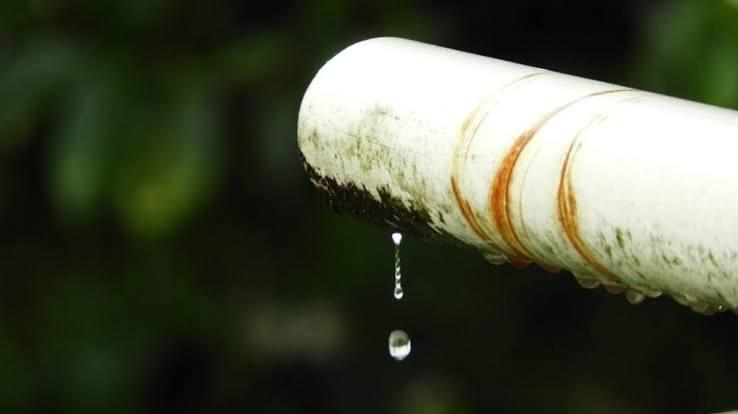water drop: (390, 229, 409, 300), (386, 331, 414, 357), (481, 246, 507, 266), (572, 272, 598, 290), (694, 298, 716, 318), (674, 290, 692, 310), (624, 287, 643, 305)
